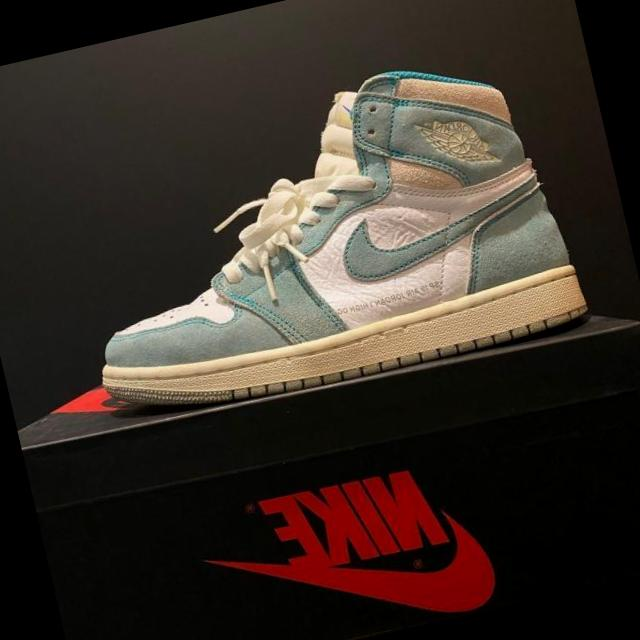nike_original_jordan: (45, 34, 596, 440)
